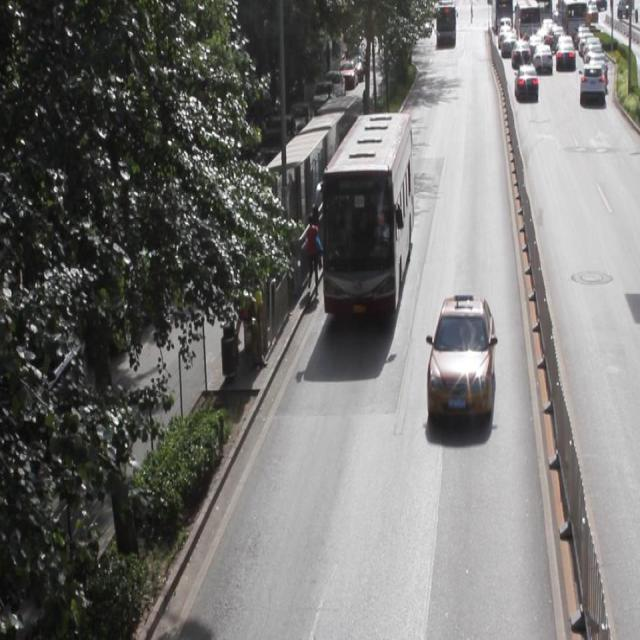car: (428, 294, 493, 422)
van: (322, 110, 409, 314)
